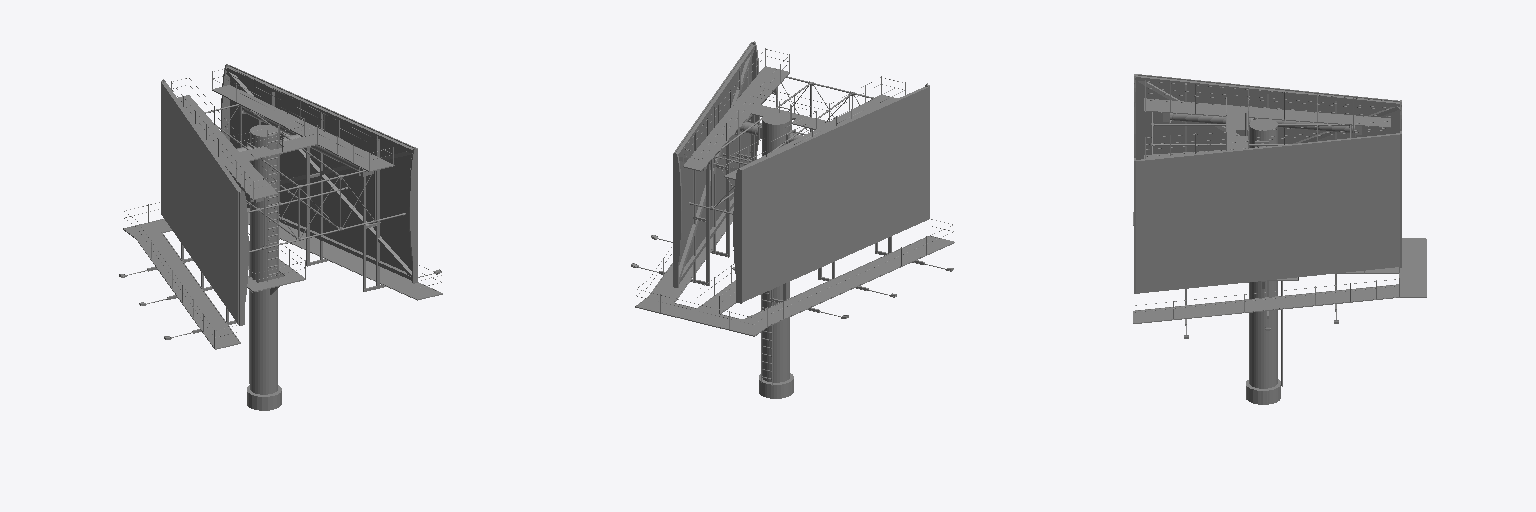
File: billboard.obj
3 renders of one model, left to right at view 1: azimuth 30°, elevation 25°; view 2: azimuth 150°, elevation 25°; view 3: azimuth 270°, elevation 25°, orthographic.
Parts seen in each view (by area): view 1: pCube66, pCube92, polySurf12, pCylinde29, polySurf13, polySurf37, pCube77, polySurf38, pCube78, pCube79; view 2: pCube92, polySurf12, pCube66, polySurf13, pCylinde29, polySurf35, polySurf36, pCube77, pCube80, pCylinde28; view 3: pCube66, pCube92, polySurf12, pCylinde29, polySurf13, pCube99.
Boxes of the visible parts, box(x1,y1,x2,y2) form: pCube66: box(230, 65, 416, 270); pCube92: box(161, 82, 238, 324); polySurf12: box(123, 208, 441, 348); pCylinde29: box(250, 125, 277, 394); polySurf13: box(178, 85, 391, 198); polySurf37: box(239, 190, 248, 325); pCube77: box(226, 67, 413, 152); polySurf38: box(409, 148, 417, 283); pCube78: box(226, 71, 411, 276); pCube79: box(247, 203, 411, 280); pCube92: box(742, 86, 929, 302); polySurf12: box(636, 207, 954, 335); pCube66: box(674, 43, 751, 265); polySurf13: box(684, 67, 896, 178); pCylinde29: box(762, 113, 789, 382); polySurf35: box(673, 152, 681, 287); polySurf36: box(733, 168, 741, 303); pCube77: box(677, 44, 754, 156); pCube80: box(679, 49, 754, 281); pCylinde28: box(759, 373, 793, 398); pCube66: box(1136, 134, 1399, 293); pCube92: box(1136, 74, 1399, 159); polySurf12: box(1134, 239, 1425, 323); pCylinde29: box(1249, 119, 1277, 388); polySurf13: box(1146, 99, 1389, 158); pCube99: box(1136, 75, 1399, 106).
Size of the model in its own units: 59.16 by 57.94 by 54.39.